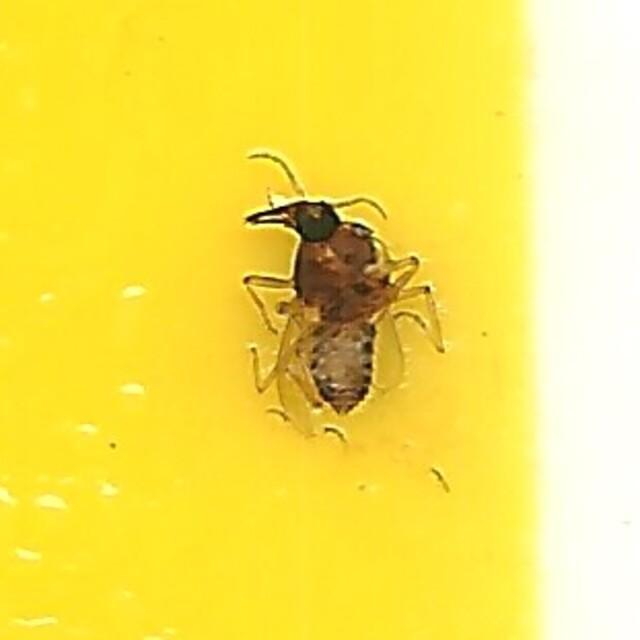Brachycera: (206, 191, 434, 449)
